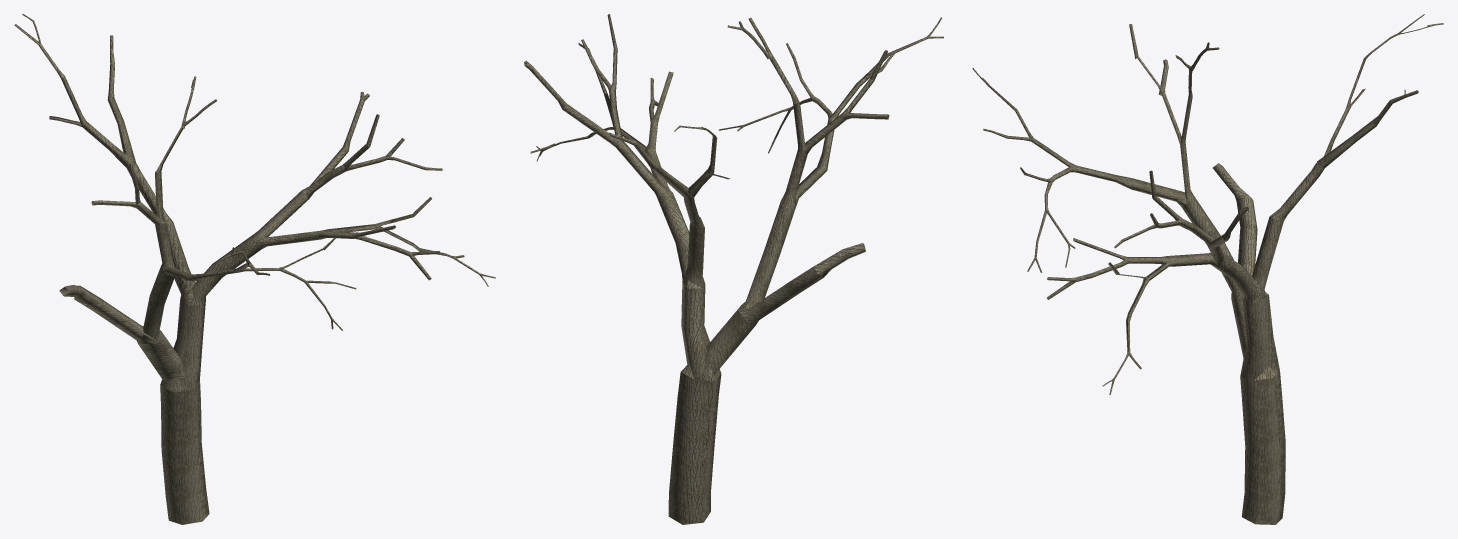
The model's file is baum1.obj.
The picture shows the model from 3 angles, left to right: view 1: azimuth 30°, elevation 25°; view 2: azimuth 150°, elevation 25°; view 3: azimuth 270°, elevation 25°; orthographic projection. The views are drawn at different scales.
Visible parts, largest first — view 1: treeBare1Main1 treeBare1MeshGroup polySurface1; view 2: treeBare1Main1 treeBare1MeshGroup polySurface1; view 3: treeBare1Main1 treeBare1MeshGroup polySurface1.
Boxes of the visible parts, <box> form: treeBare1Main1 treeBare1MeshGroup polySurface1: <box>14,14,495,524</box>; treeBare1Main1 treeBare1MeshGroup polySurface1: <box>524,14,943,524</box>; treeBare1Main1 treeBare1MeshGroup polySurface1: <box>972,14,1443,524</box>.
Bounding box in the file's own units: 47.89 × 56.41 × 51.65.
1 material, 1 textured.
